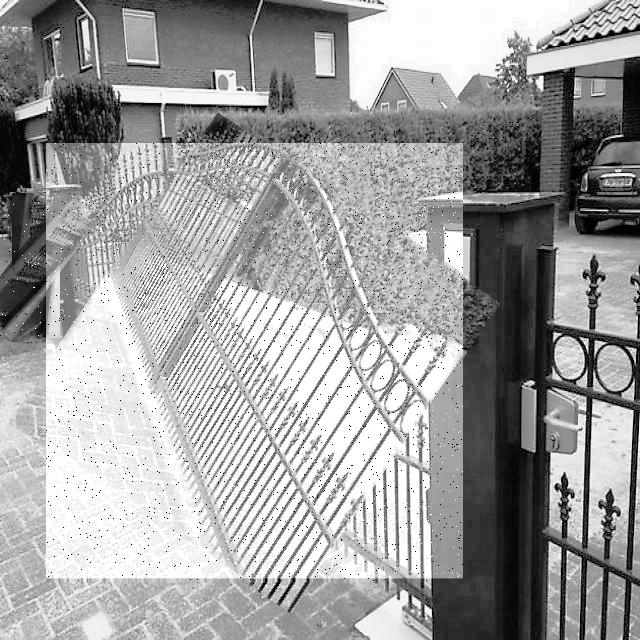fences: (46, 144, 463, 582), (0, 194, 79, 343)
